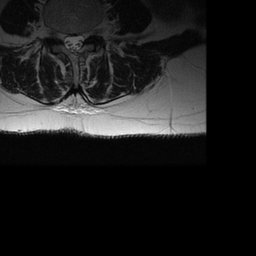CCS_normal: (69, 27, 77, 57)
LFS_stenosis: (85, 22, 93, 42)
LLS_normal: (77, 27, 85, 51)
RFS_normal: (54, 23, 62, 46)
RLS_normal: (62, 27, 69, 49)
